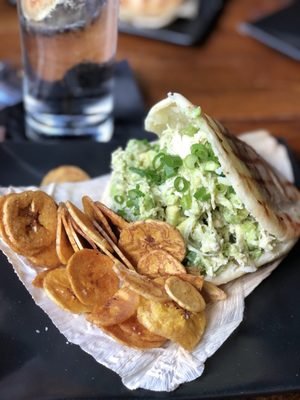curry: (100, 93, 300, 285)
pizza: (15, 0, 120, 145)
